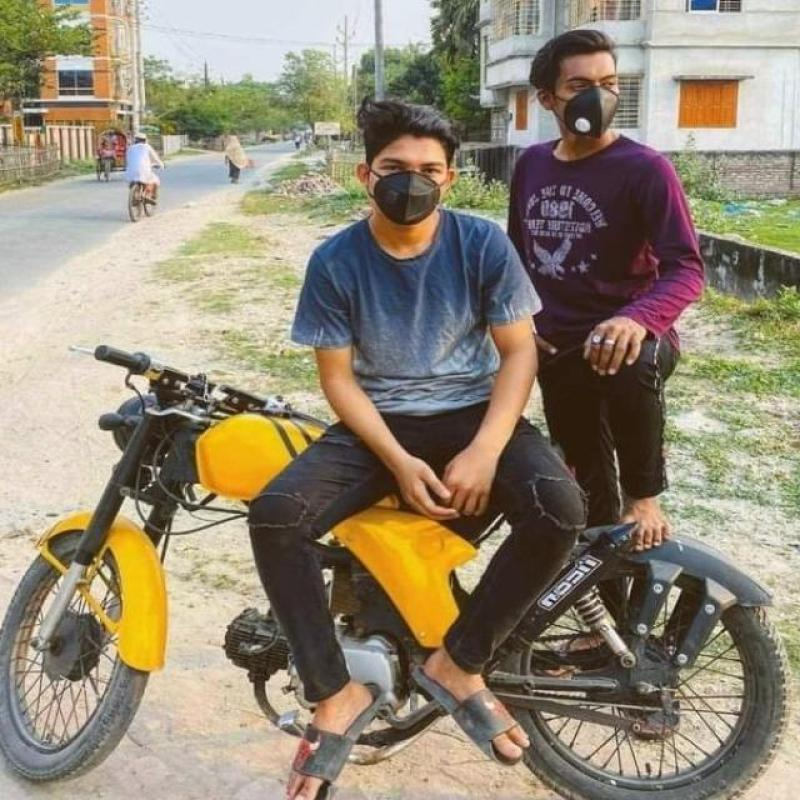nohelmet: (326, 92, 476, 238), (520, 30, 644, 149)
